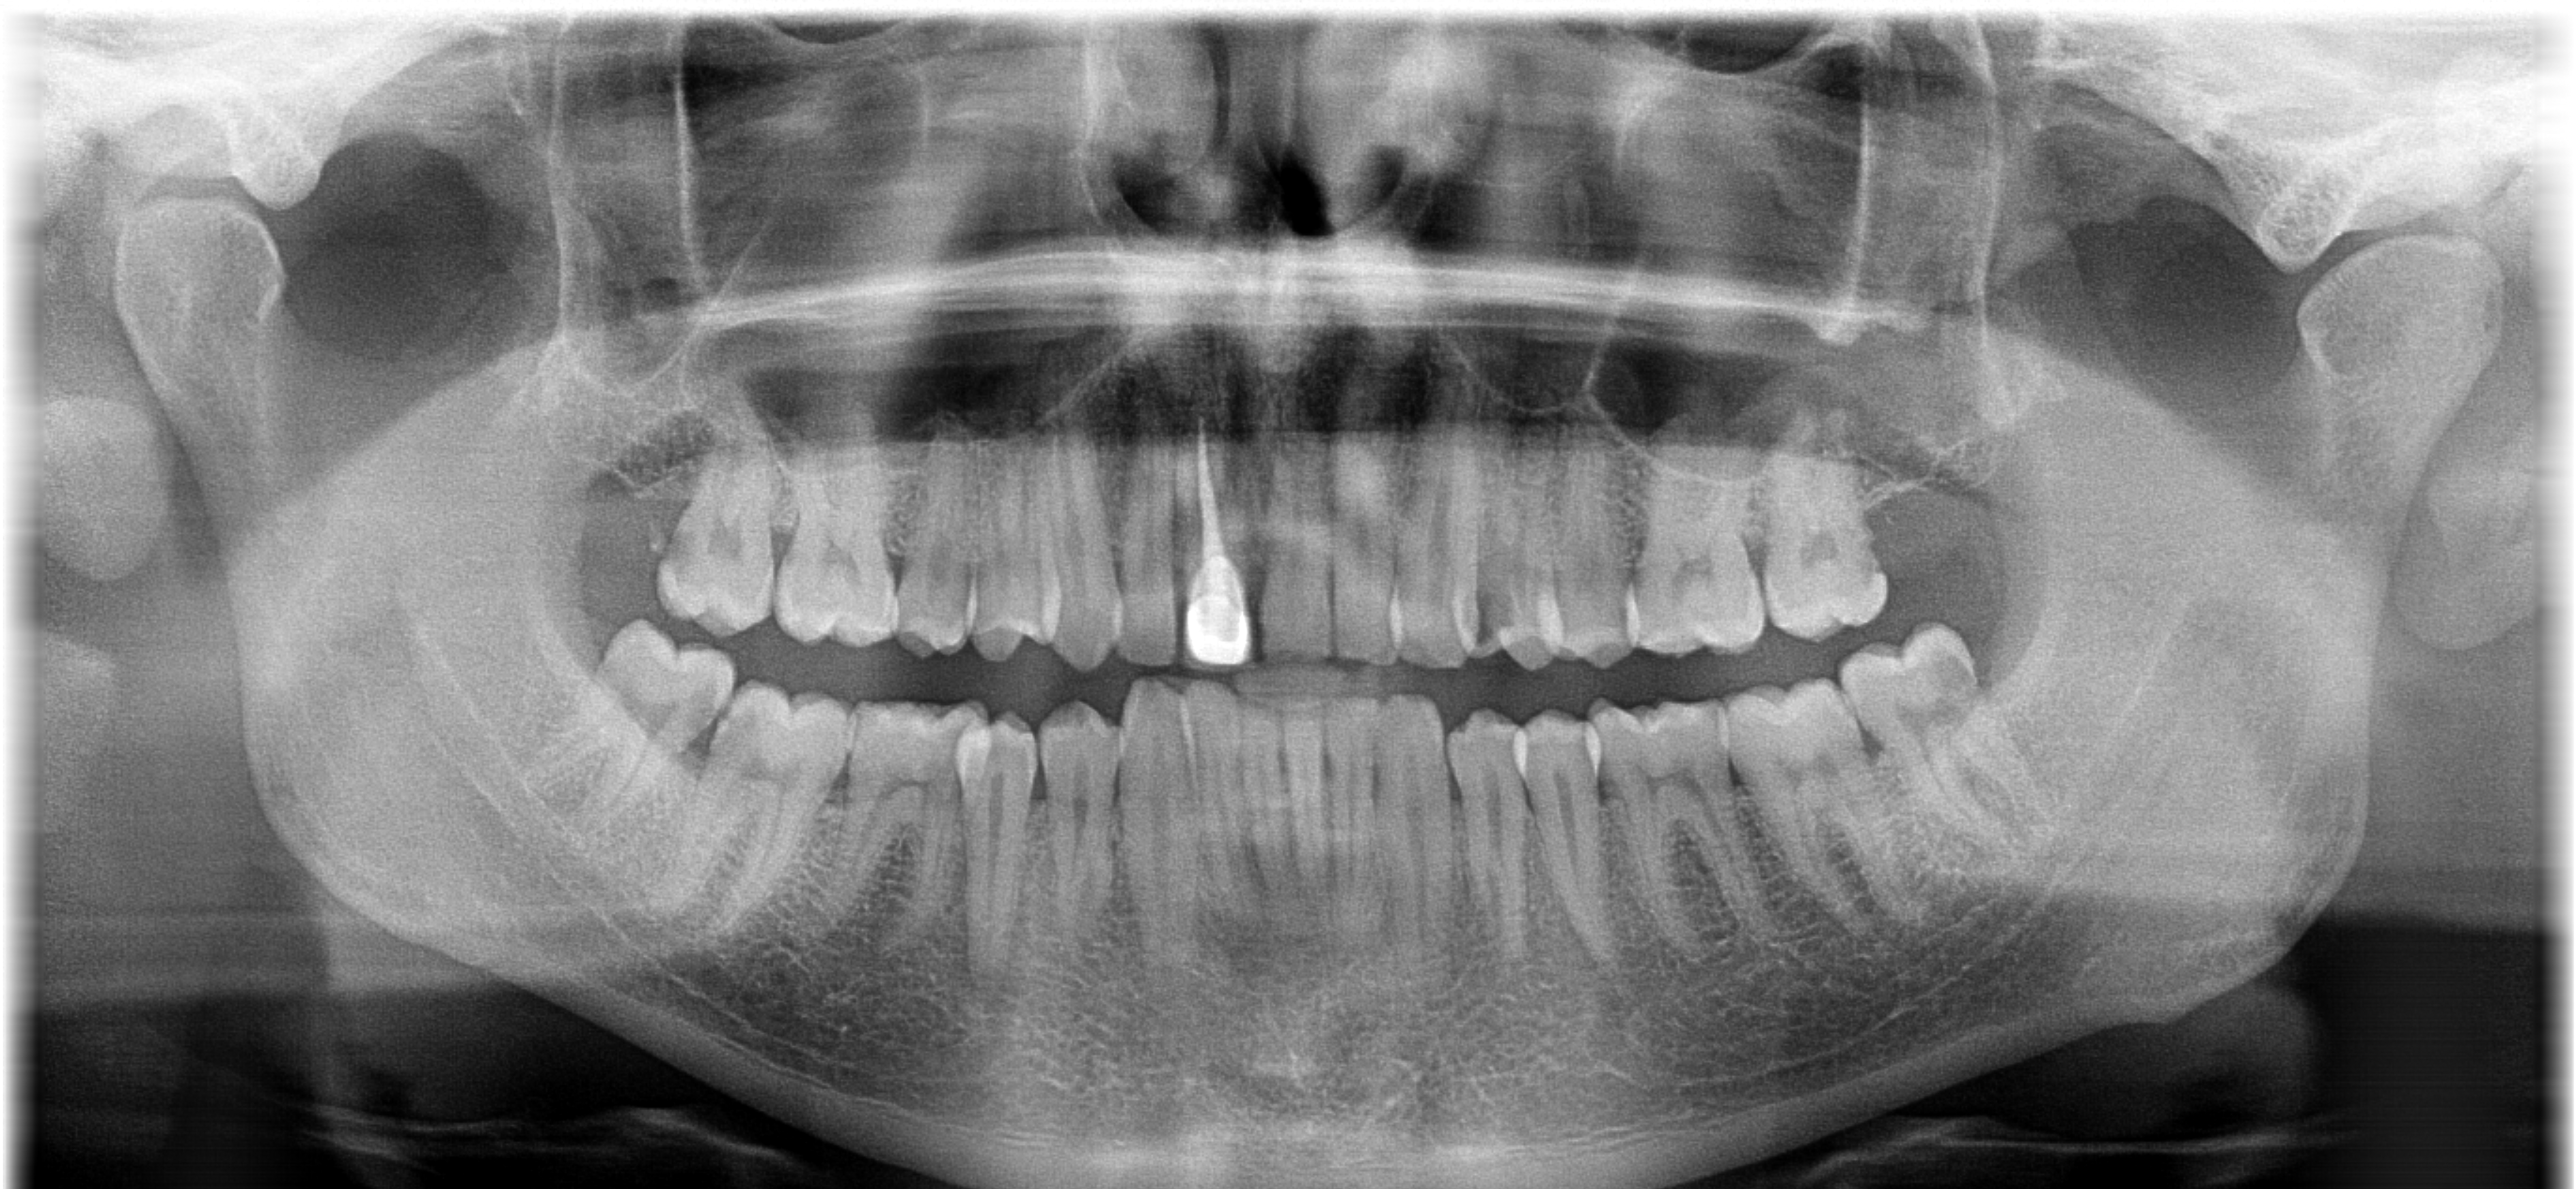apinamiento: (1109, 677, 1391, 795)
cordal: (1805, 614, 2047, 852), (504, 604, 746, 841)
tratamiento_conducto: (1155, 378, 1278, 690)
